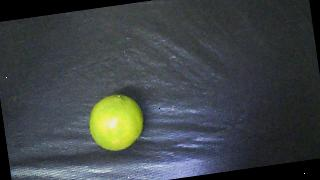LOCAL: (86, 92, 147, 154)
